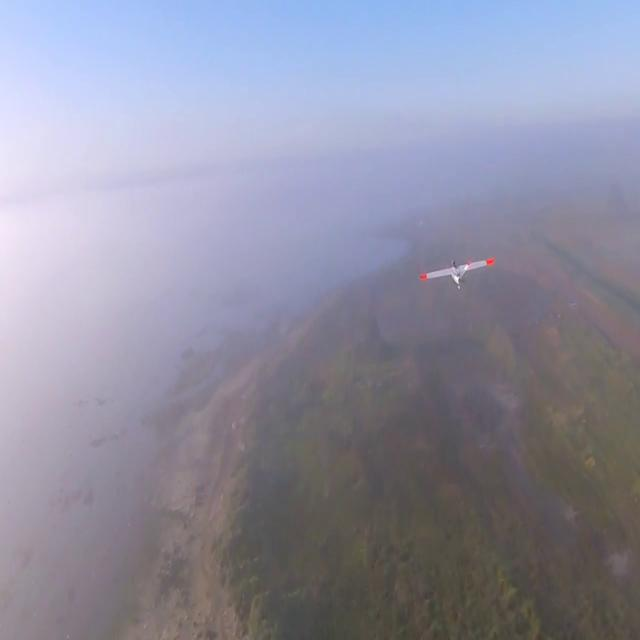iha: (448, 255, 454, 294)
